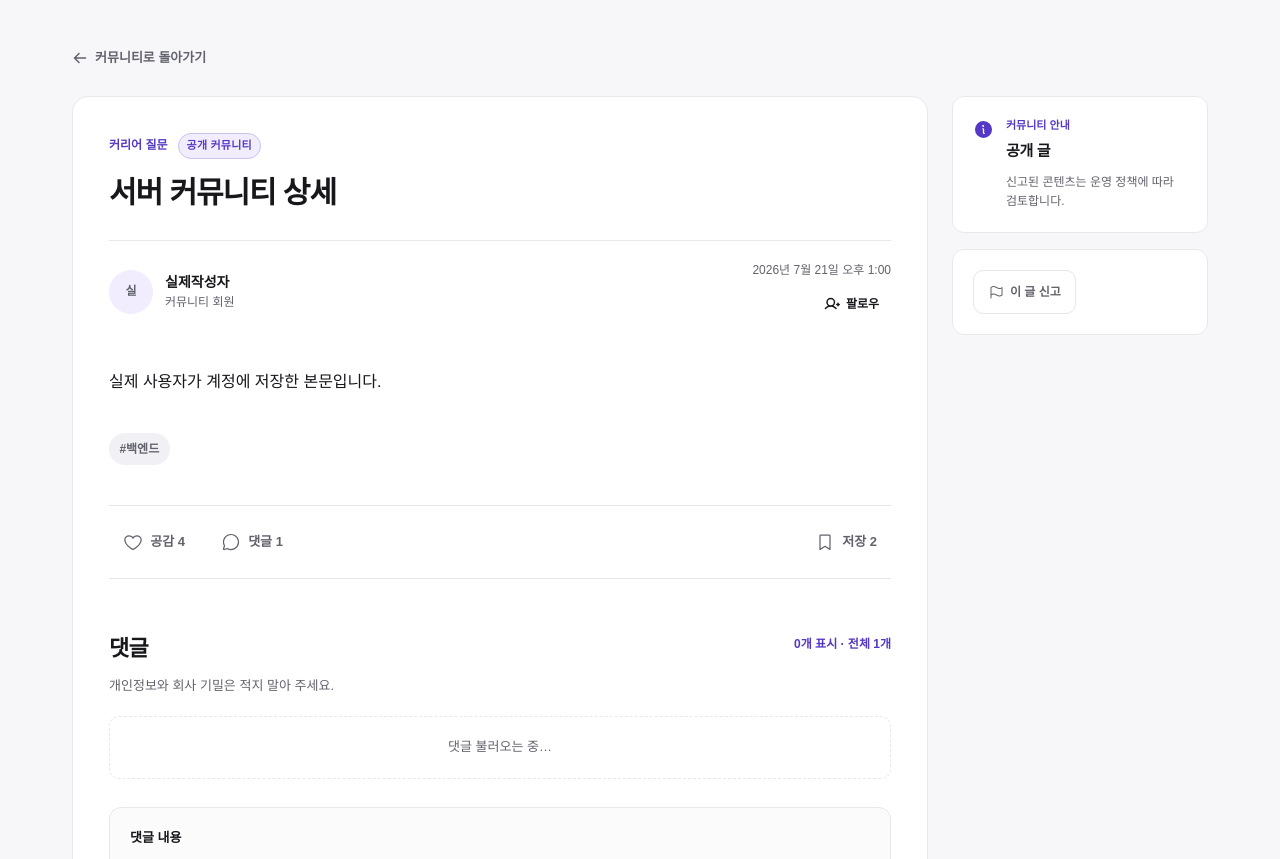
Test: ServerPostDetail › keeps the user on the post when login status cannot be verified
Expected: the heading "서버 커뮤니티 상세" is shown, [109, 176, 336, 209]
Click the button "공감 4".
click(154, 542)  # box [109, 520, 199, 564]
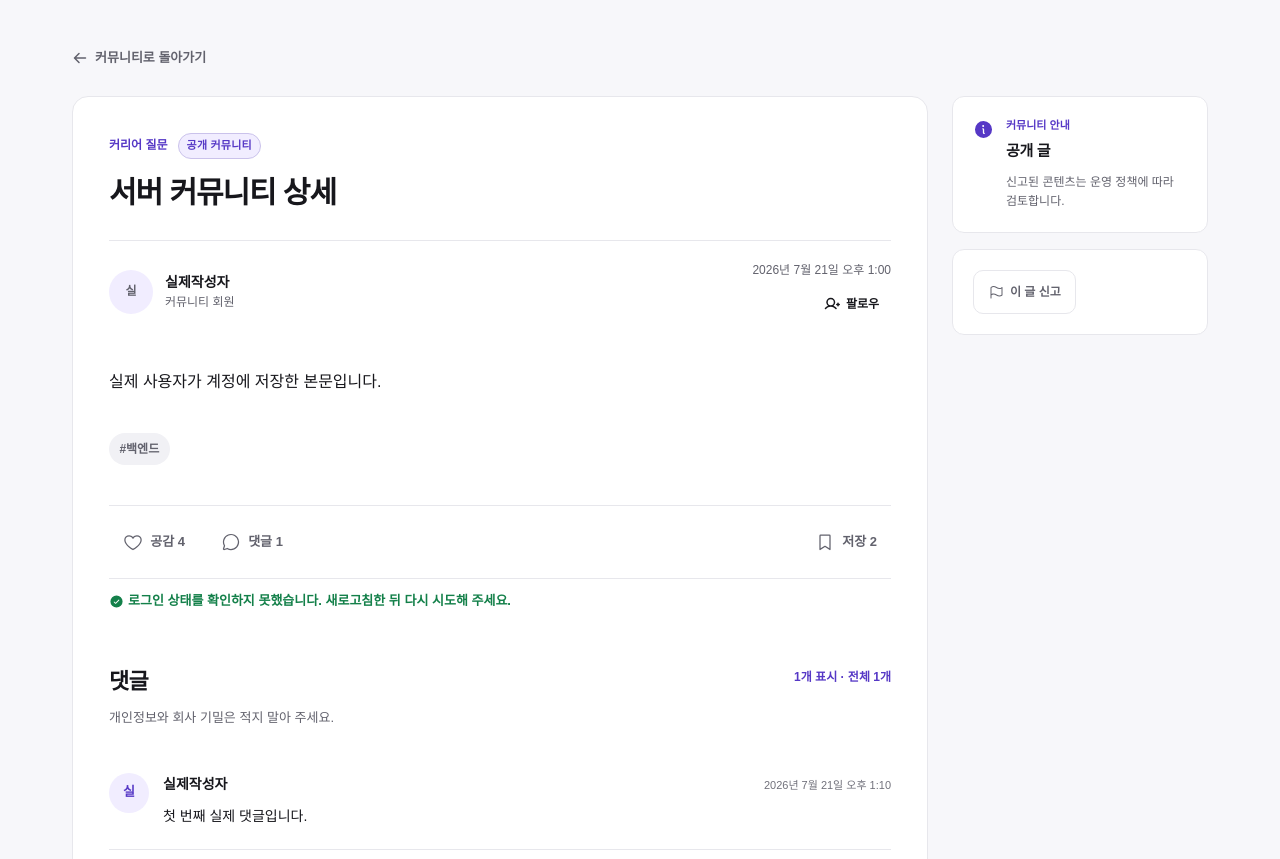
Expected: the text "로그인 상태를 확인하지 못했습니다. 새로고침한 뒤 다시 시도해 주세요." is shown, [109, 593, 511, 609]
